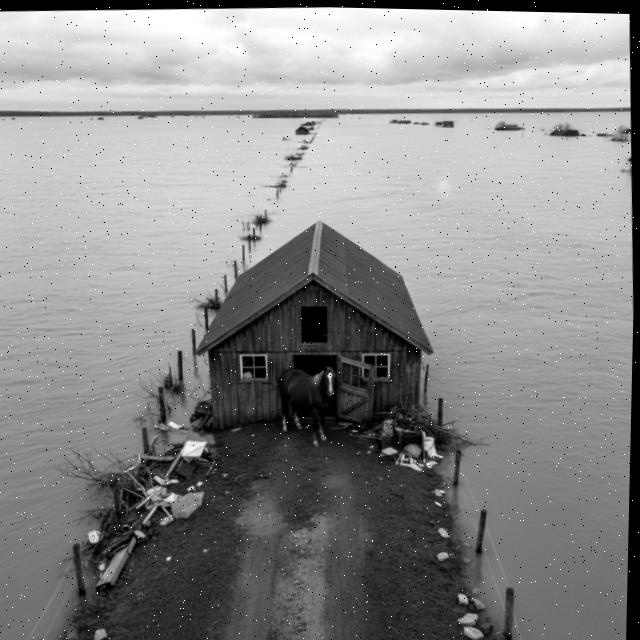horse: (272, 352, 345, 450)
